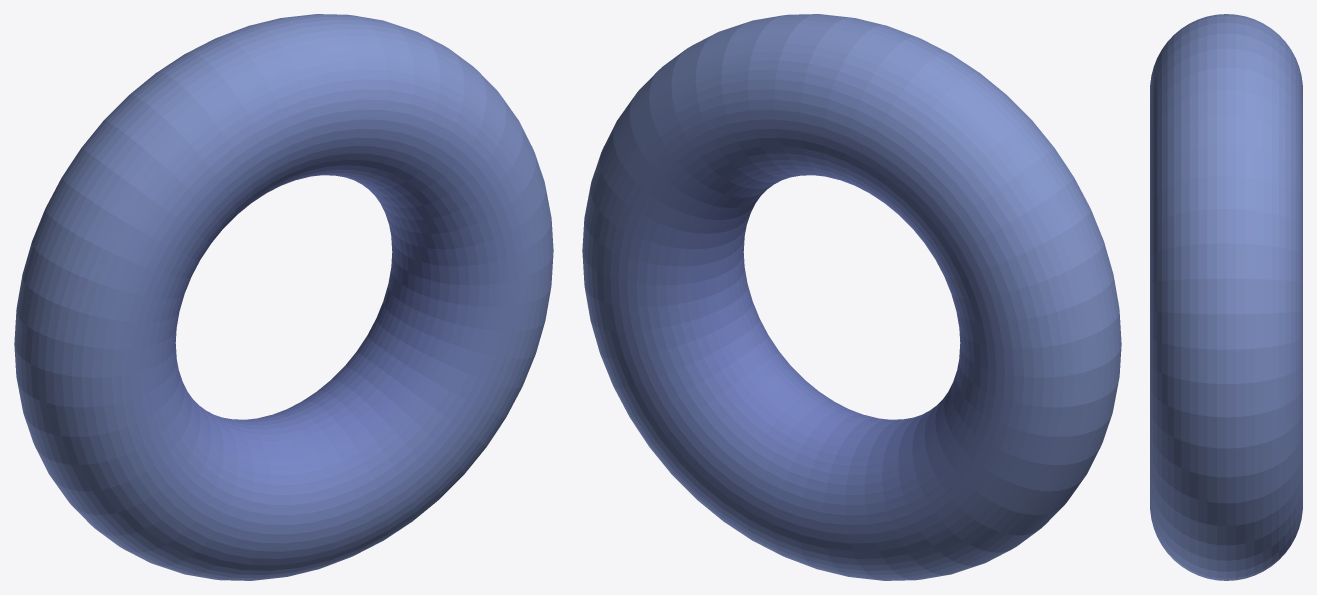
3 views of the same model, side by side, from view 1: azimuth 30°, elevation 25°; view 2: azimuth 150°, elevation 25°; view 3: azimuth 270°, elevation 25° (orthographic). The views are drawn at different scales.
Parts seen in each view (by area): view 1: world; view 2: world; view 3: world.
Boxes of the visible parts, x1,y1,x2,y2 form: world: (14, 14, 553, 580); world: (582, 14, 1121, 580); world: (1150, 14, 1302, 580).
Bounding box in the file's own units: 18.27 × 18.23 × 4.92.
